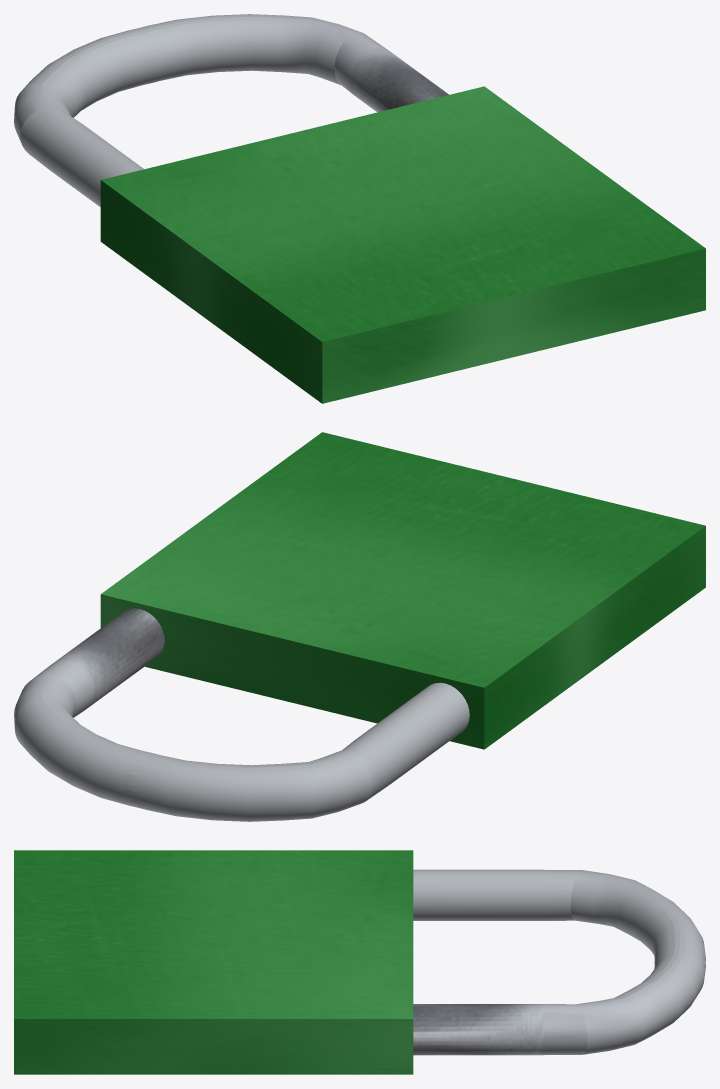
The model's file is lock_green.fbx.
The picture shows the model from 3 angles, top to bottom: view 1: azimuth 30°, elevation 25°; view 2: azimuth 150°, elevation 25°; view 3: azimuth 270°, elevation 25°; orthographic projection. The views are drawn at different scales.
Parts seen in each view (by area): view 1: Cube, Cylinder.002; view 2: Cube, Cylinder.002; view 3: Cube, Cylinder.002.
Part boxes in pixels (<box>): Cube: <box>100,86,705,403</box>; Cylinder.002: <box>14,14,448,207</box>; Cube: <box>100,432,705,749</box>; Cylinder.002: <box>14,608,469,821</box>; Cube: <box>14,850,413,1074</box>; Cylinder.002: <box>413,869,705,1055</box>.
Bounding box in the file's own units: 312 × 48 × 541.
